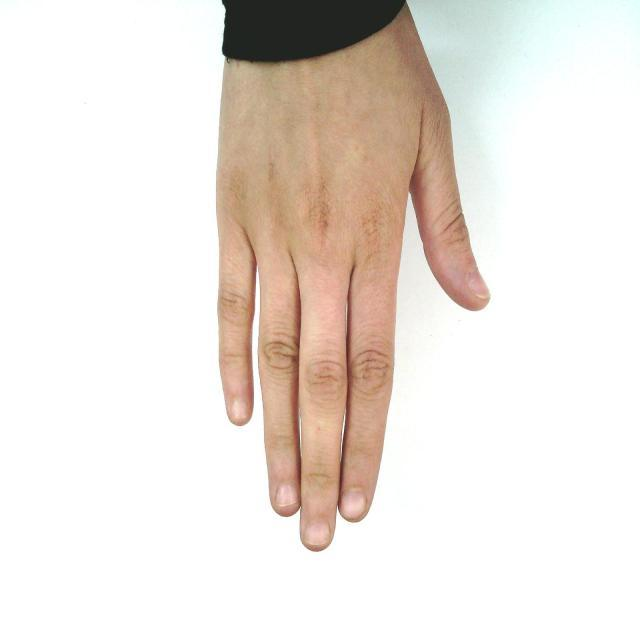Fingernail: (341, 491, 365, 518), (306, 521, 329, 545), (469, 274, 489, 299), (276, 485, 295, 507), (232, 401, 248, 420)
